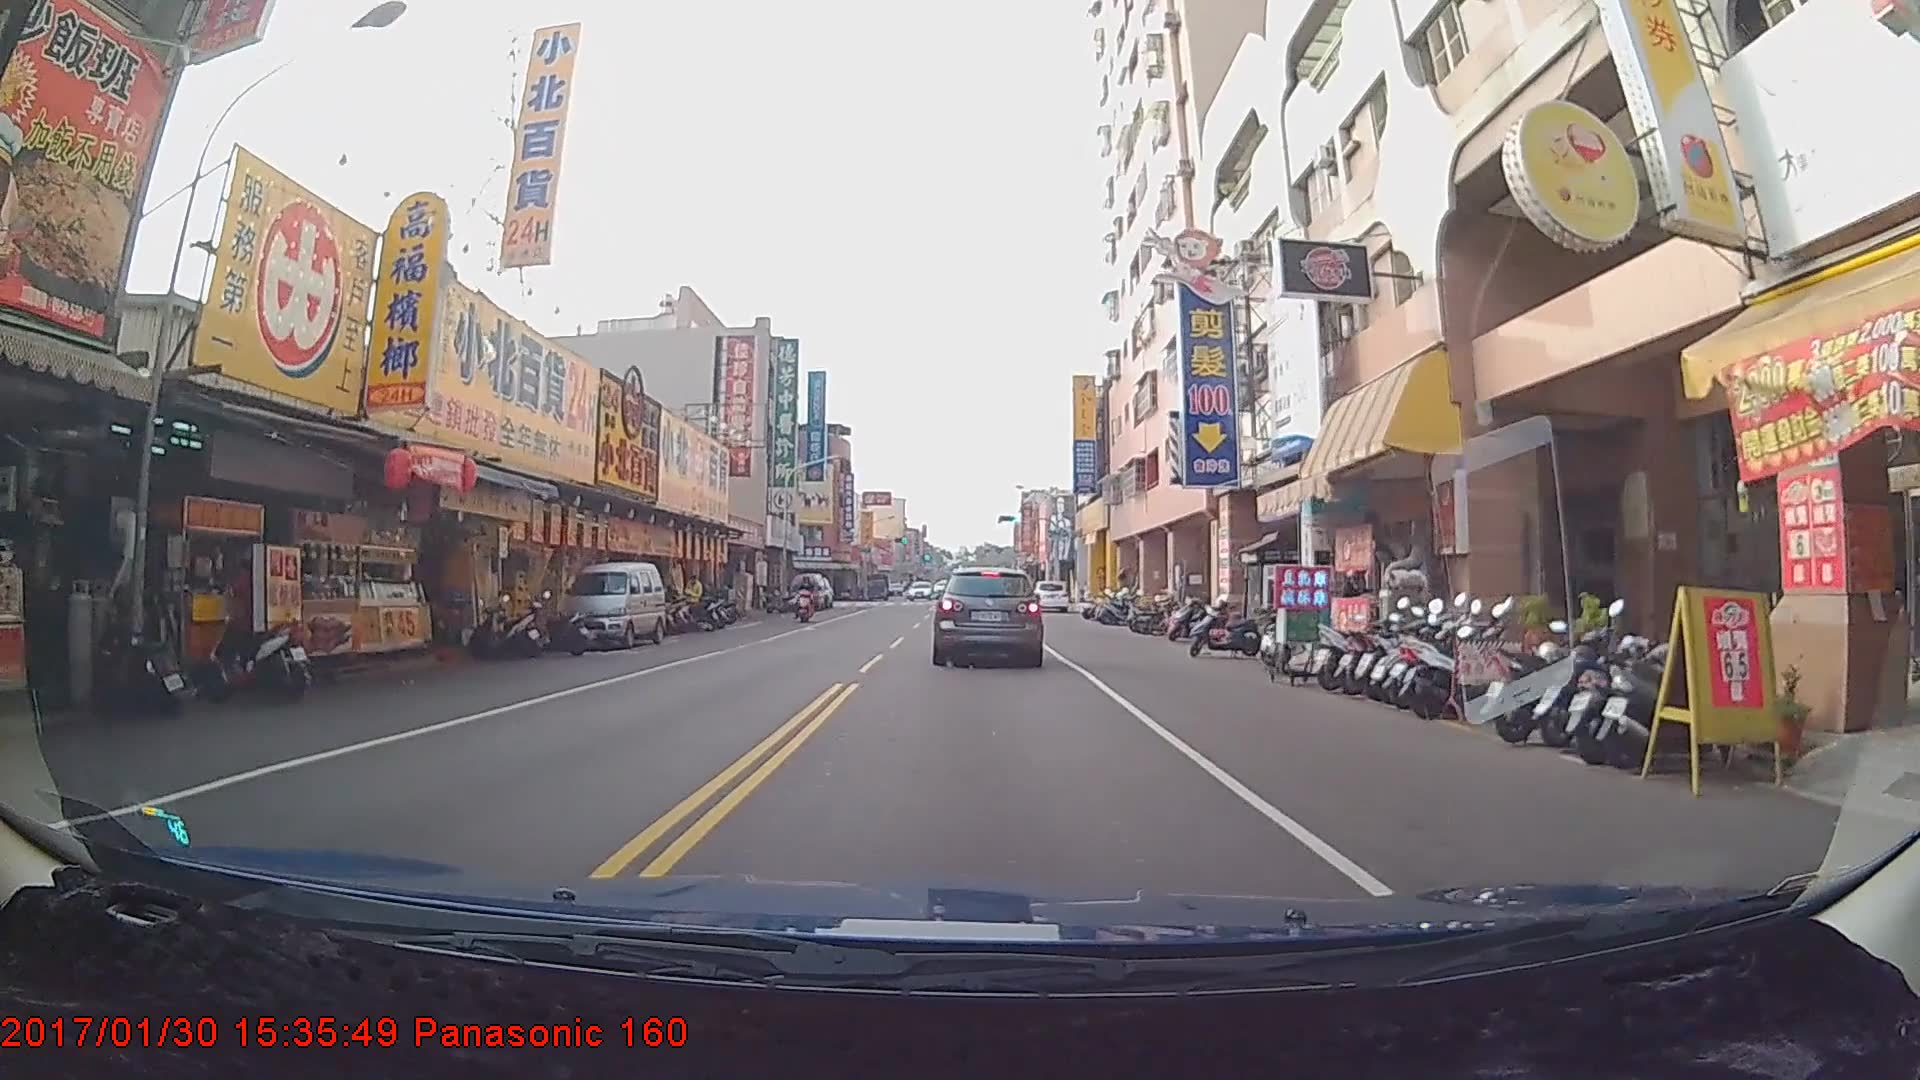pedestrian: (677, 574, 704, 627)
rider: (796, 574, 820, 625)
vehicle: (932, 565, 1044, 668), (560, 561, 667, 647), (790, 571, 826, 611), (1031, 580, 1068, 614)
